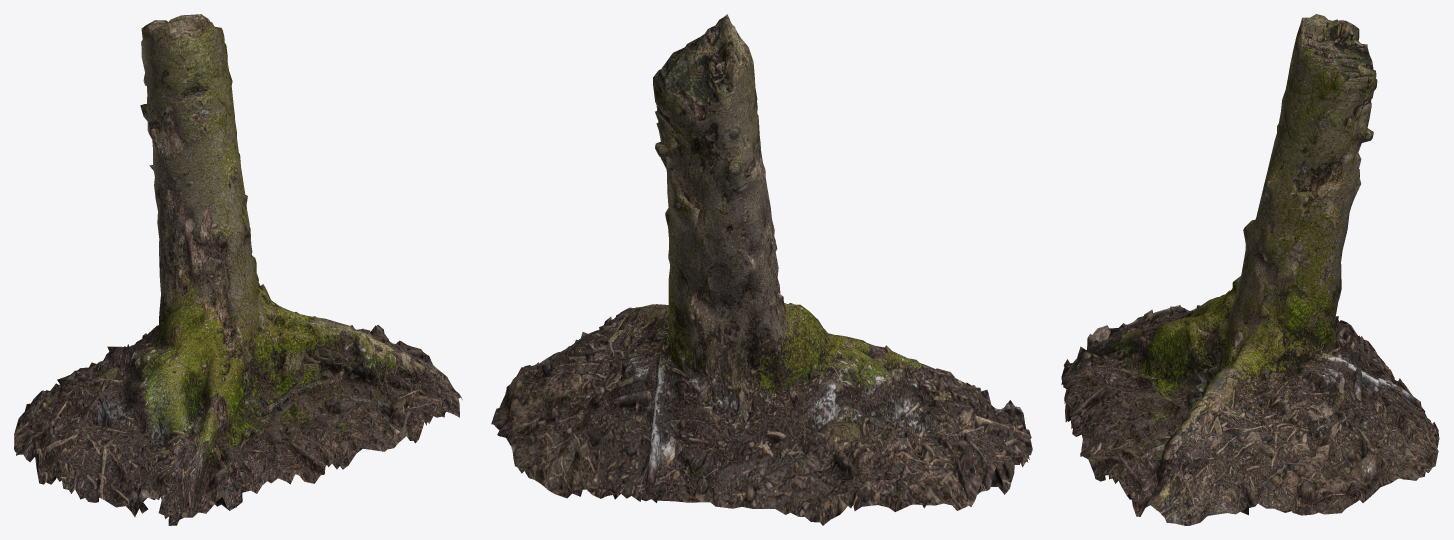
Rendered from PX_Stump_12_LOD2.fbx.
The picture shows the model from 3 angles, left to right: view 1: azimuth 30°, elevation 25°; view 2: azimuth 150°, elevation 25°; view 3: azimuth 270°, elevation 25°; orthographic projection. The views are drawn at different scales.
Parts seen in each view (by area): view 1: PX_Stump_12_LOD2; view 2: PX_Stump_12_LOD2; view 3: PX_Stump_12_LOD2.
Part boxes in pixels (left/top/right/bottom): PX_Stump_12_LOD2: left=14, top=14, right=462, bottom=525; PX_Stump_12_LOD2: left=491, top=14, right=1032, bottom=525; PX_Stump_12_LOD2: left=1061, top=14, right=1439, bottom=525.
Size of the model in its own units: 116 by 111 by 90.7.
